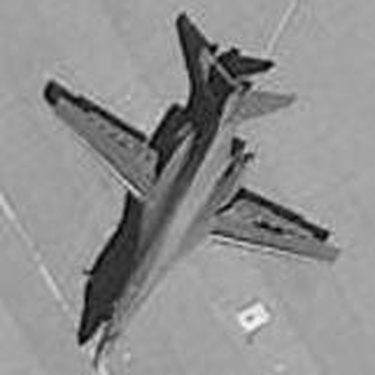airplane: (8, 2, 353, 352)
